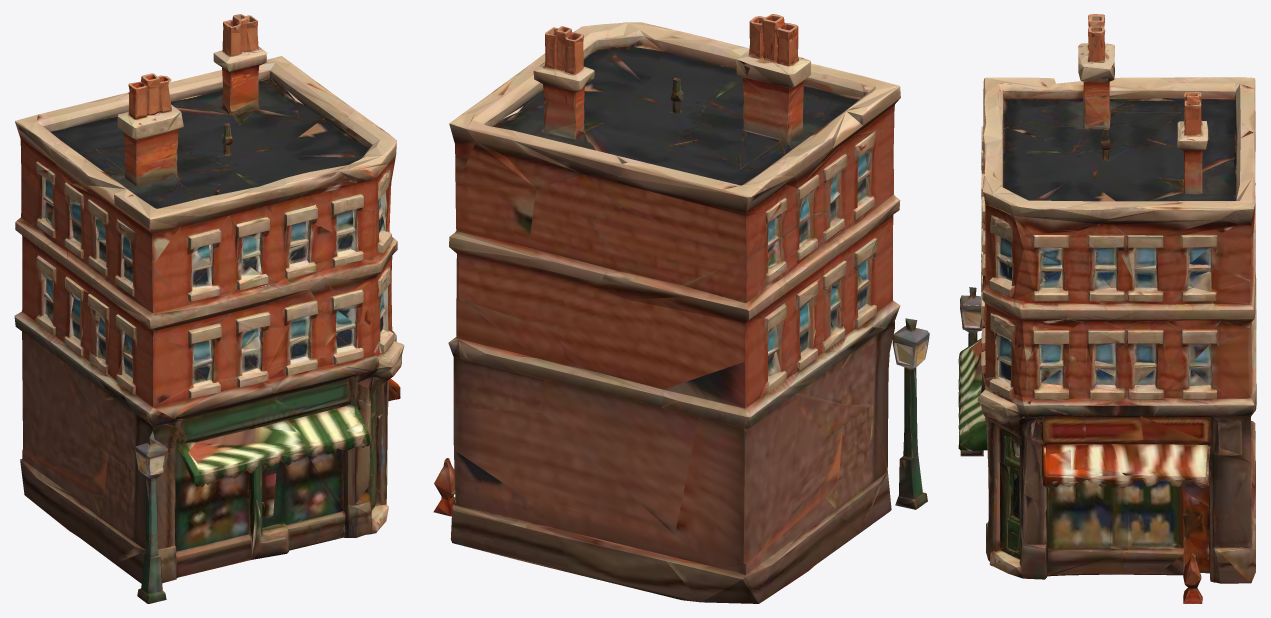
File: town_flats_2.glb
3 views of the same model, side by side, from view 1: azimuth 30°, elevation 25°; view 2: azimuth 150°, elevation 25°; view 3: azimuth 270°, elevation 25° (orthographic). The views are drawn at different scales.
Parts seen in each view (by area): view 1: normalize; view 2: normalize; view 3: normalize.
Part boxes in pixels (x1,y1,x2,y2): normalize: [14, 14, 404, 603]; normalize: [433, 14, 929, 603]; normalize: [958, 14, 1256, 603].
Bounding box in the file's own units: 1 × 1.37 × 0.8001.
Materials: 1 (1 with a texture image).
